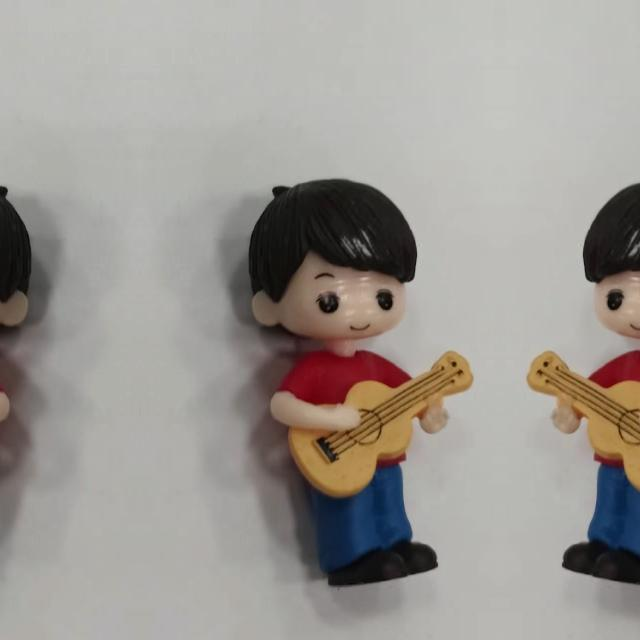man cloth: (270, 352, 438, 468), (562, 351, 640, 468), (0, 351, 9, 468)
man head: (231, 172, 423, 348), (577, 171, 640, 348), (0, 171, 49, 348)
trousers: (306, 461, 454, 593), (546, 461, 640, 593)
